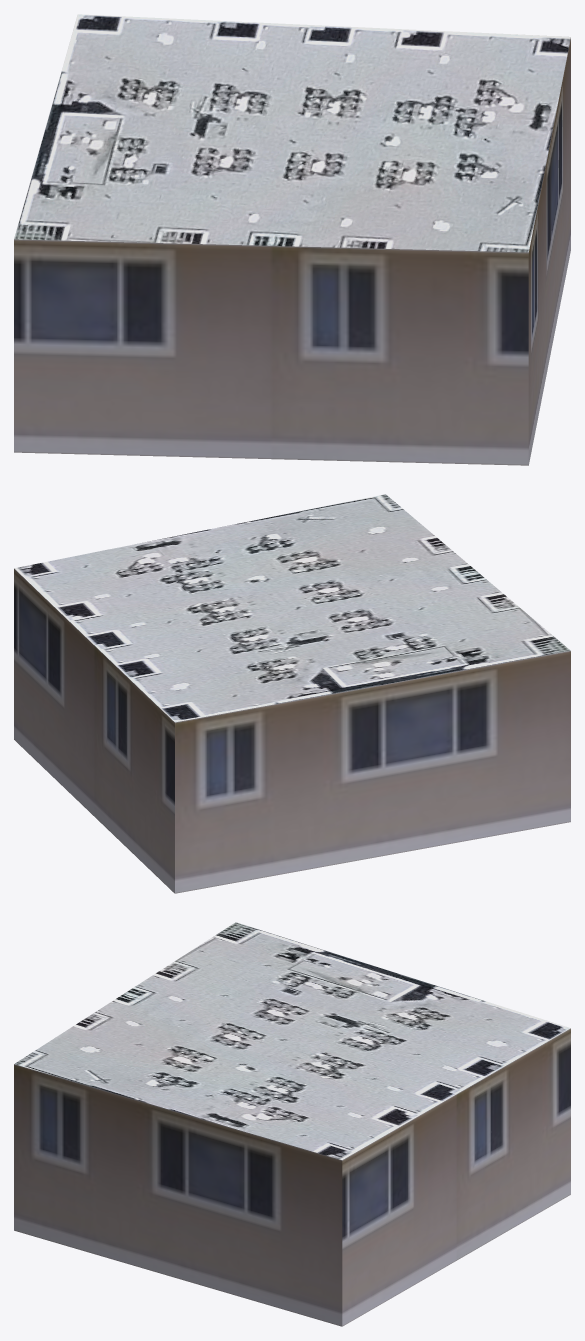
File: ResTex__3318.fbx
The picture shows the model from 3 angles, top to bottom: view 1: azimuth 30°, elevation 25°; view 2: azimuth 150°, elevation 25°; view 3: azimuth 270°, elevation 25°; orthographic projection. The views are drawn at different scales.
Parts seen in each view (by area): view 1: CityEngineMaterial_21_m, CityEngineMaterial_4_m; view 2: CityEngineMaterial_21_m, CityEngineMaterial_4_m; view 3: CityEngineMaterial_21_m, CityEngineMaterial_4_m.
Part boxes in pixels (x1,y1,x2,y2): CityEngineMaterial_21_m: (14, 38, 570, 465); CityEngineMaterial_4_m: (14, 14, 570, 252); CityEngineMaterial_21_m: (14, 568, 570, 893); CityEngineMaterial_4_m: (14, 494, 570, 722); CityEngineMaterial_21_m: (14, 1028, 570, 1326); CityEngineMaterial_4_m: (14, 922, 570, 1160).
Size of the model in its own units: 9.2 by 3 by 9.1.
2 materials, 2 textured.
